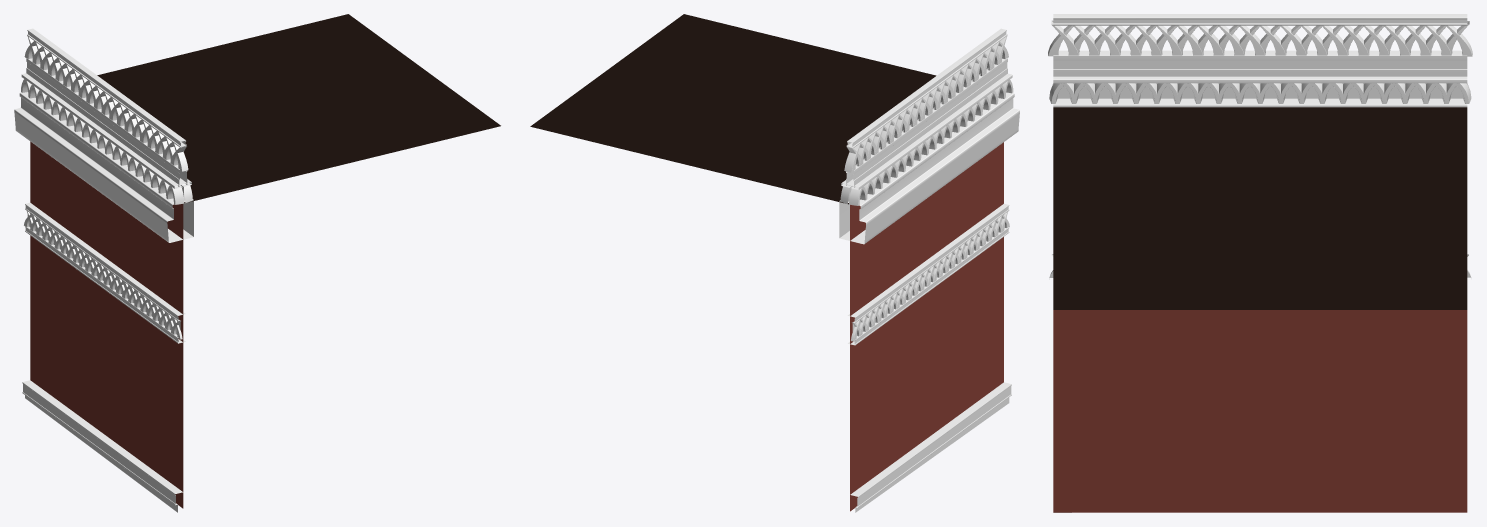
The model's file is Geonosis_Gallery01_Small.fbx.
3 renders of one model, left to right at view 1: azimuth 30°, elevation 25°; view 2: azimuth 150°, elevation 25°; view 3: azimuth 270°, elevation 25°, orthographic. The views are drawn at different scales.
Visible parts, largest first — view 1: Geonosis_Gallery01_Small; view 2: Geonosis_Gallery01_Small; view 3: Geonosis_Gallery01_Small.
Part boxes in pixels (box(x1,y1,x2,y2)): Geonosis_Gallery01_Small: box(14, 14, 500, 512); Geonosis_Gallery01_Small: box(530, 14, 1019, 512); Geonosis_Gallery01_Small: box(1048, 14, 1472, 512).
Size of the model in its own units: 630 by 668 by 513.
